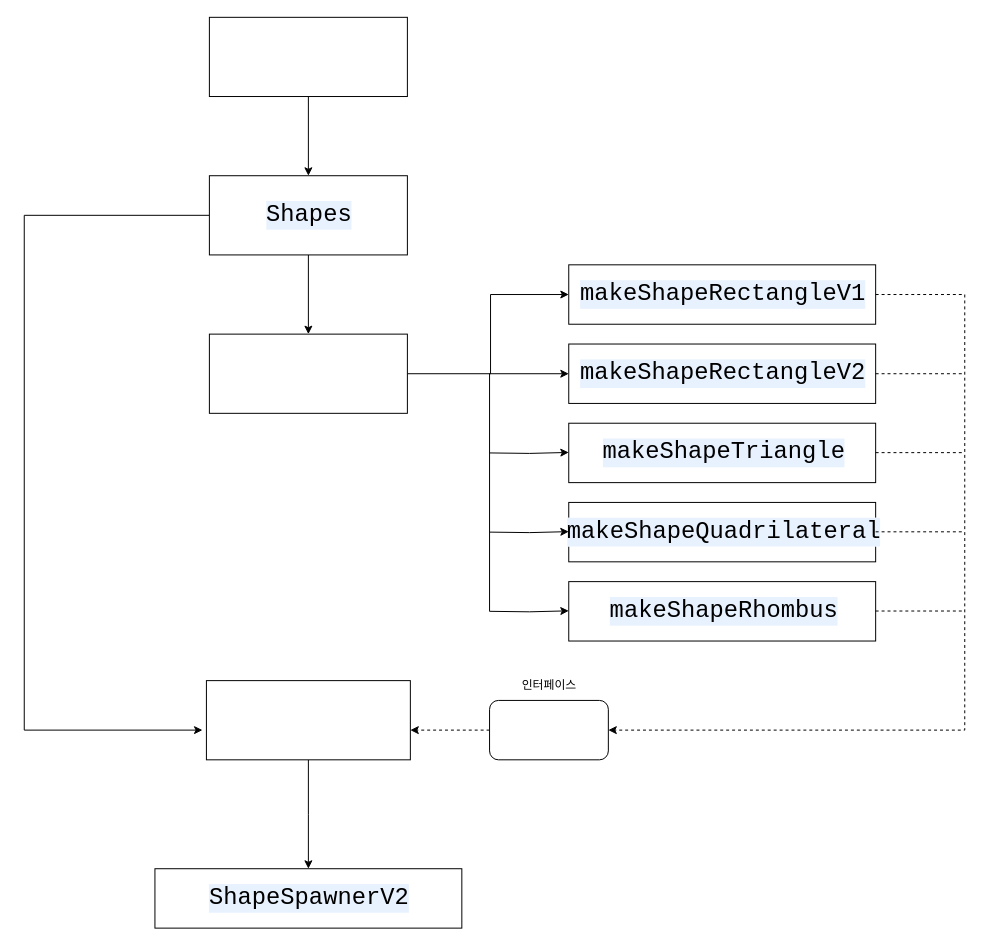
Some shapes in this 990 by 945 pixel diagram are drawn without their labels. The shapes that lost their labels are listed below. From the top down, each one's centre as x and y in pixels, then its label:
(307,56): ConsoleMenu
(307,373): ScannerSearcher
(307,720): MainRun
(548,729): makeShape
